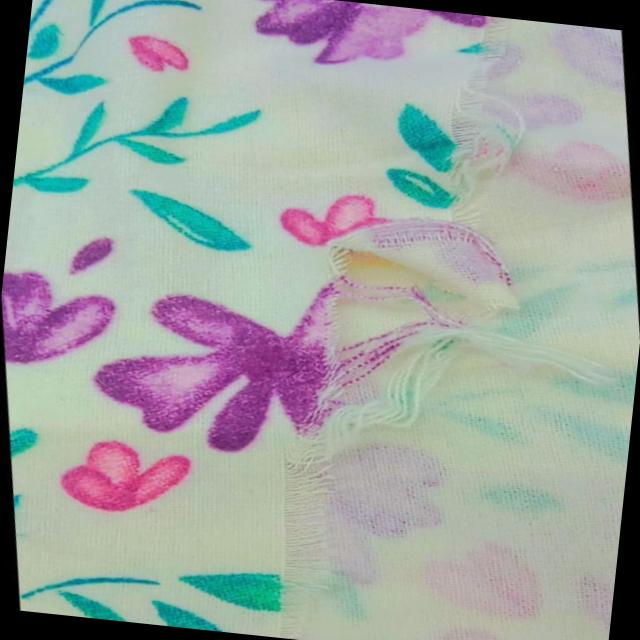cut: (202, 190, 608, 618)
